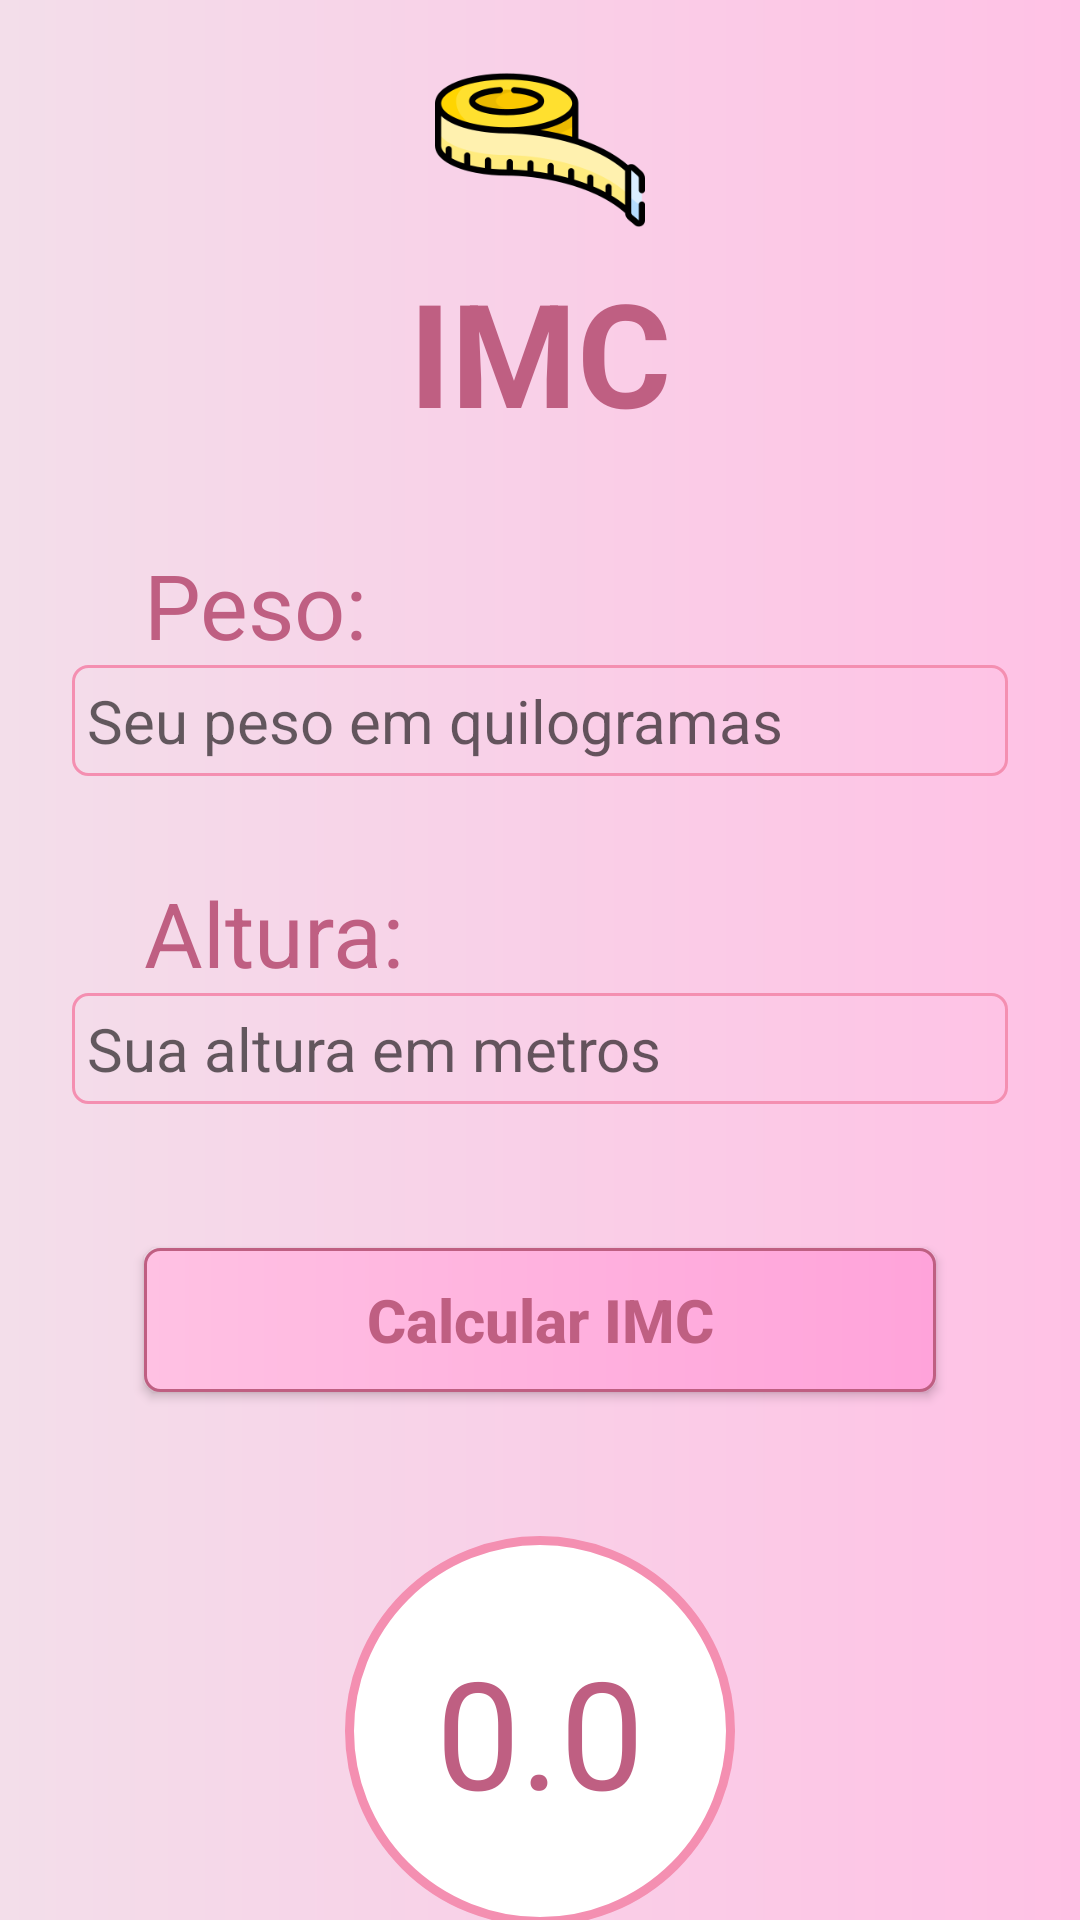

Named icons in this screenshot (1080x1920) and their centers, (x,y):
fita metrica: (540,150)
